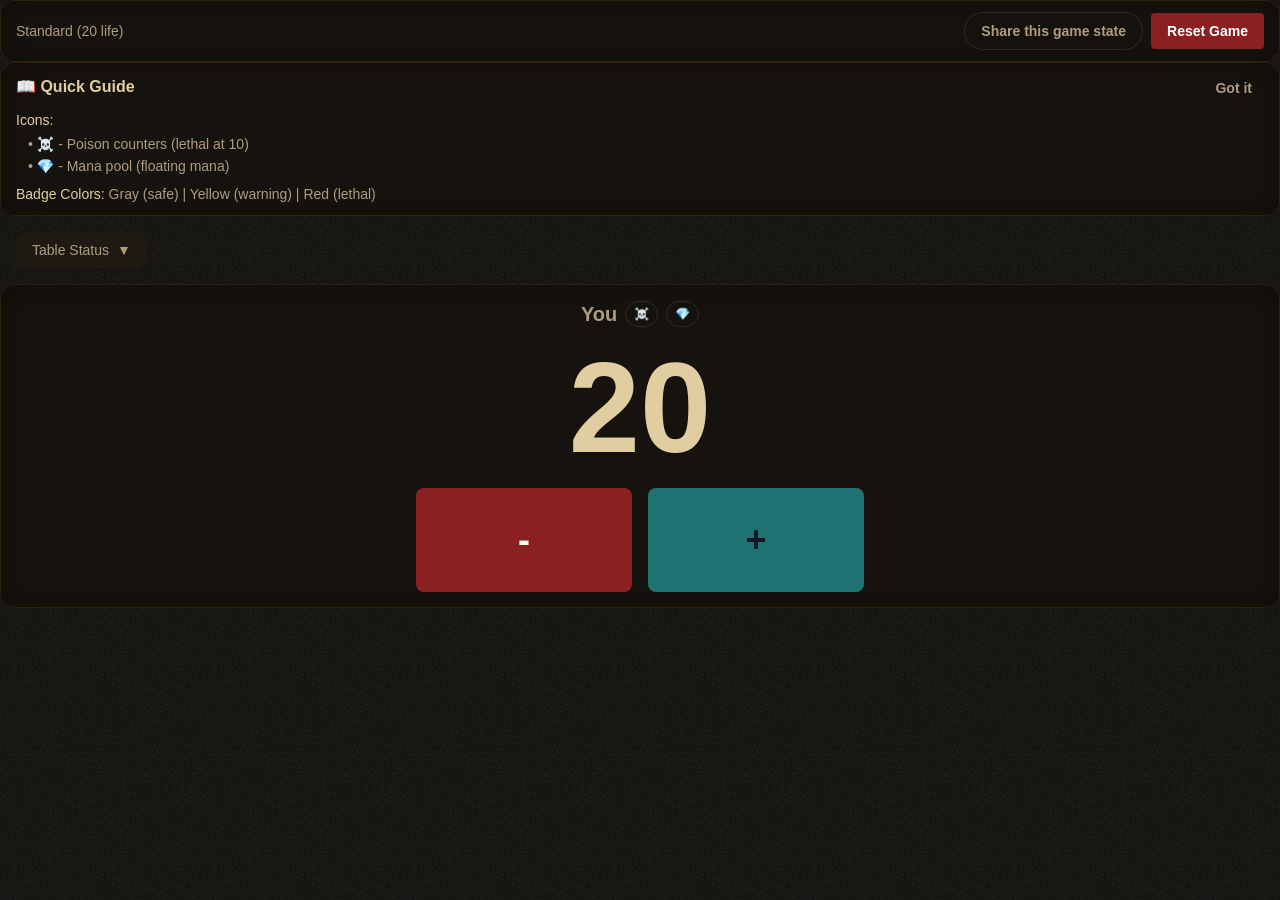
Test: LifeTracker › should update life when buttons are clicked
Step 1. Click the button "+" → [756, 540], box [648, 488, 864, 592]
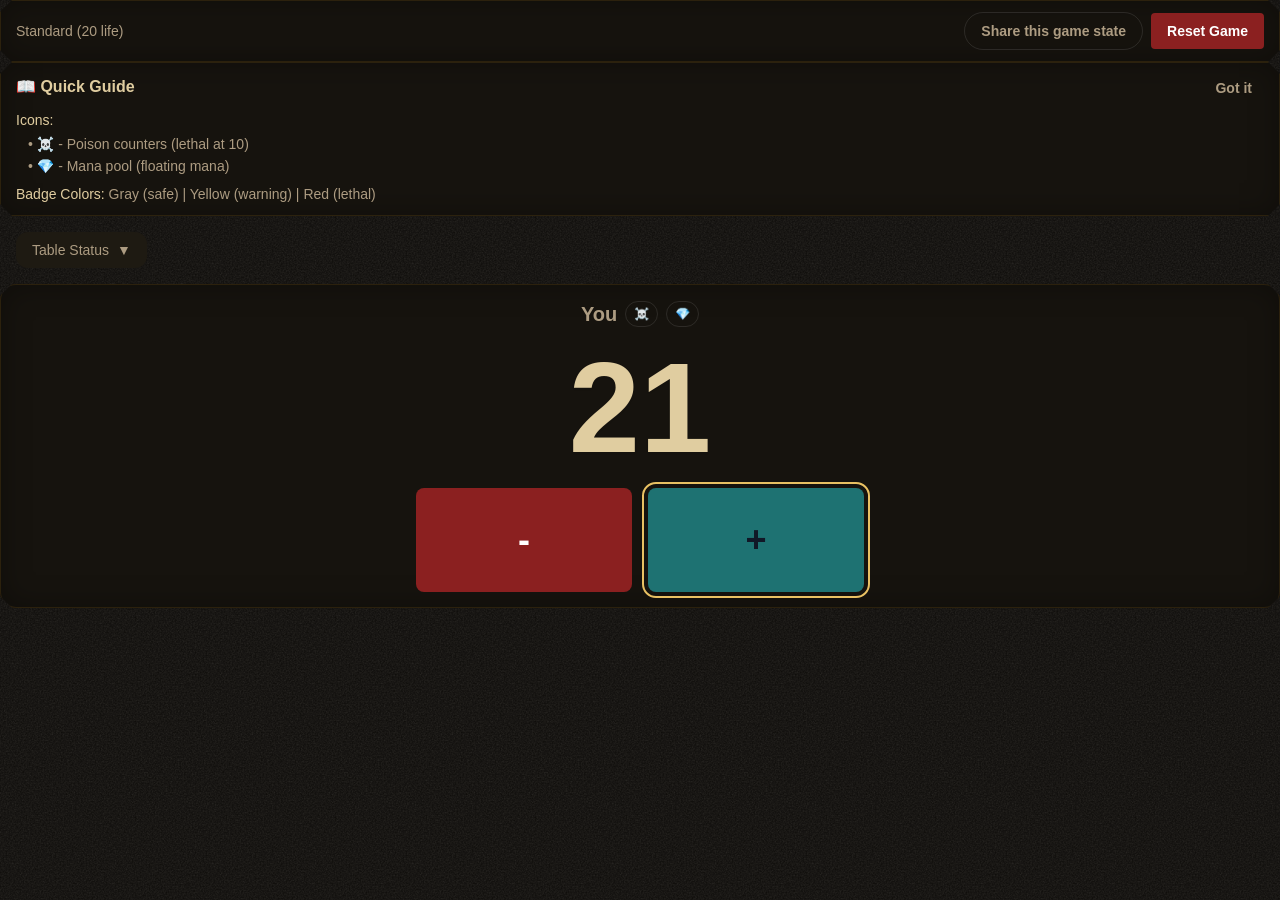
Expected: the text "21" is shown, [569, 344, 711, 472]
